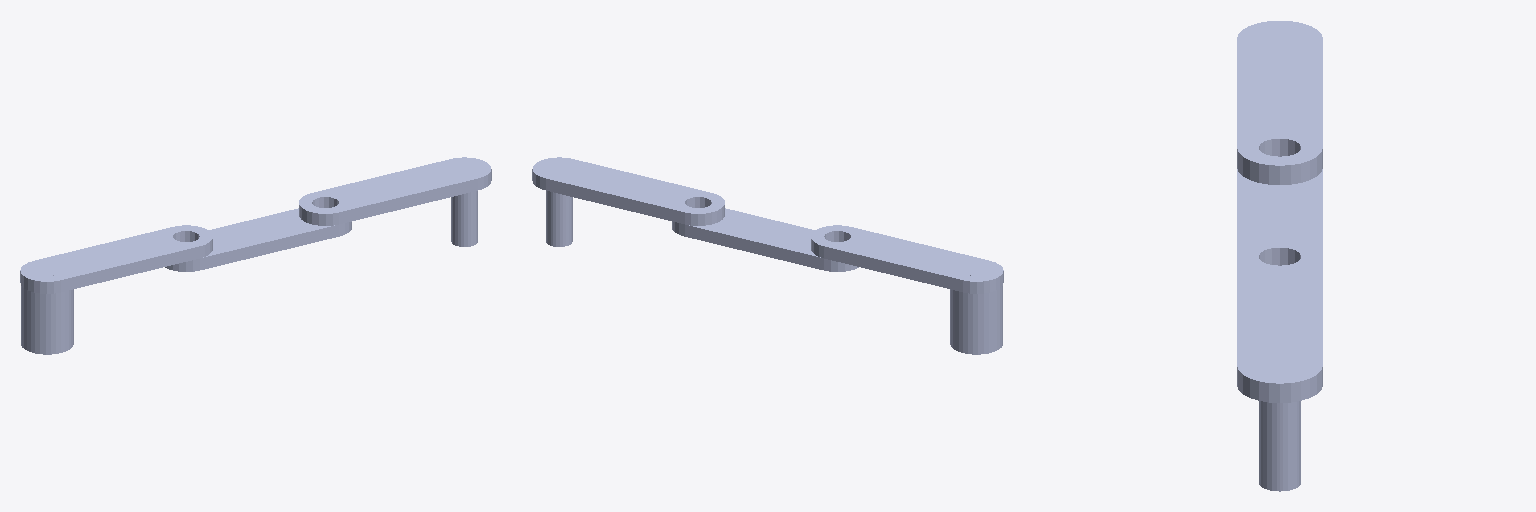
The robot description file, URDF, robot "scara_description":
<?xml version="1.0" encoding="utf-8"?>
<!-- This URDF was automatically created by SolidWorks to URDF Exporter! Originally created by [author] ([email redacted])
     Commit Version: 1.6.0-1-g15f4949  Build Version: 1.6.7594.29634
     For more information, please see http://wiki.ros.org/sw_urdf_exporter -->
<robot
  name="scara_description">
  <link
    name="base_link">
    <!-- <inertial>
      <origin
        xyz="-1.19902195345762E-18 -1.15027863359712E-36 0.0264285714285714"
        rpy="0 0 0" />
      <mass
        value="0.0659734457253857" />
      <inertia
        ixx="2.21706681553337E-05"
        ixy="-1.53596998285445E-39"
        ixz="3.37959773971053E-22"
        iyy="2.21706681553337E-05"
        iyz="-7.31884059447372E-38"
        izz="1.27234502470387E-05" />
    </inertial> -->
    <visual>
      <origin
        xyz="0 0 0"
        rpy="0 0 0" />
      <geometry>
        <mesh
          filename="package://scara_description/meshes/base_link.STL" />
      </geometry>
      <material
        name="">
        <color
          rgba="0.792156862745098 0.819607843137255 0.933333333333333 1" />
      </material>
    </visual>
    <collision>
      <origin
        xyz="0 0 0"
        rpy="0 0 0" />
      <geometry>
        <mesh
          filename="package://scara_description/meshes/base_link.STL" />
      </geometry>
    </collision>
  </link>
  <link
    name="link1">
    <inertial>
      <origin
        xyz="0.06 4.60932162961415E-18 0.00500000000000001"
        rpy="0 0 0" />
      <mass
        value="0.0542831853071797" />
      <inertia
        ixx="7.95191730631629E-06"
        ixy="-9.16610760965386E-21"
        ixz="-1.05751741696821E-20"
        iyy="9.4571384412163E-05"
        iyz="2.88743437528517E-22"
        izz="0.00010161858196336" />
    </inertial>
    <visual>
      <origin
        xyz="0 0 0"
        rpy="0 0 0" />
      <geometry>
        <mesh
          filename="package://scara_description/meshes/link1.STL" />
      </geometry>
      <material
        name="">
        <color
          rgba="0.792156862745098 0.819607843137255 0.933333333333333 1" />
      </material>
    </visual>
    <collision>
      <origin
        xyz="0 0 0"
        rpy="0 0 0" />
      <geometry>
        <mesh
          filename="package://scara_description/meshes/link1.STL" />
      </geometry>
    </collision>
  </link>
  <joint
    name="joint1"
    type="revolute">
    <origin
      xyz="0 0 0.05"
      rpy="0 0 0" />
    <parent
      link="base_link" />
    <child
      link="link1" />
    <axis
      xyz="0 0 1" />
    <limit
      lower="-2.967"
      upper="2.967"
      effort="0"
      velocity="0" />
  </joint>
  <link
    name="link2">
    <inertial>
      <origin
        xyz="0.06 2.41102148983359E-18 -0.00499999999999995"
        rpy="0 0 0" />
      <mass
        value="0.0542831853071797" />
      <inertia
        ixx="7.9519173063163E-06"
        ixy="-6.8807077310514E-21"
        ixz="-8.77170450513449E-20"
        iyy="9.45713844121631E-05"
        iyz="-6.97446710071629E-21"
        izz="0.00010161858196336" />
    </inertial>
    <visual>
      <origin
        xyz="0 0 0"
        rpy="0 0 0" />
      <geometry>
        <mesh
          filename="package://scara_description/meshes/link2.STL" />
      </geometry>
      <material
        name="">
        <color
          rgba="0.792156862745098 0.819607843137255 0.933333333333333 1" />
      </material>
    </visual>
    <collision>
      <origin
        xyz="0 0 0"
        rpy="0 0 0" />
      <geometry>
        <mesh
          filename="package://scara_description/meshes/link2.STL" />
      </geometry>
    </collision>
  </link>
  <joint
    name="joint2"
    type="revolute">
    <origin
      xyz="0.12 0 0"
      rpy="0 0 0" />
    <parent
      link="link1" />
    <child
      link="link2" />
    <axis
      xyz="0 0 1" />
    <limit
      lower="-2.618"
      upper="2.618"
      effort="0"
      velocity="0" />
  </joint>
  <link
    name="link3">
    <inertial>
      <origin
        xyz="0.06 2.12814510469679E-18 0.00500000000000001"
        rpy="0 0 0" />
      <mass
        value="0.0542831853071797" />
      <inertia
        ixx="7.95191730631628E-06"
        ixy="-7.210724416327E-21"
        ixz="-2.62681785066357E-21"
        iyy="9.45713844121629E-05"
        iyz="-3.61399576867773E-23"
        izz="0.00010161858196336" />
    </inertial>
    <visual>
      <origin
        xyz="0 0 0"
        rpy="0 0 0" />
      <geometry>
        <mesh
          filename="package://scara_description/meshes/link3.STL" />
      </geometry>
      <material
        name="">
        <color
          rgba="0.792156862745098 0.819607843137255 0.933333333333333 1" />
      </material>
    </visual>
    <collision>
      <origin
        xyz="0 0 0"
        rpy="0 0 0" />
      <geometry>
        <mesh
          filename="package://scara_description/meshes/link3.STL" />
      </geometry>
    </collision>
  </link>
  <joint
    name="joint3"
    type="revolute">
    <origin
      xyz="0.12 0 0"
      rpy="0 0 0" />
    <parent
      link="link2" />
    <child
      link="link3" />
    <axis
      xyz="0 0 1" />
    <limit
      lower="-2.618"
      upper="2.618"
      effort="0"
      velocity="0" />
  </joint>
  <link
    name="end_effector">
    <inertial>
      <origin
        xyz="-5.55111512312578E-17 -2.77555756156289E-17 0.0300000000000001"
        rpy="0 0 0" />
      <mass
        value="0.0188495559215388" />
      <inertia
        ixx="6.12610567450009E-06"
        ixy="0"
        ixz="-1.13270339533024E-38"
        iyy="6.12610567450009E-06"
        iyz="-1.09278496803874E-38"
        izz="9.42477796076937E-07" />
    </inertial>
    <visual>
      <origin
        xyz="0 0 0"
        rpy="0 0 0" />
      <geometry>
        <mesh
          filename="package://scara_description/meshes/end_effector.STL" />
      </geometry>
      <material
        name="">
        <color
          rgba="0.792156862745098 0.819607843137255 0.933333333333333 1" />
      </material>
    </visual>
    <collision>
      <origin
        xyz="0 0 0"
        rpy="0 0 0" />
      <geometry>
        <mesh
          filename="package://scara_description/meshes/end_effector.STL" />
      </geometry>
    </collision>
  </link>
  <joint
    name="joint4"
    type="prismatic">
    <origin
      xyz="0.12 0 -0.05"
      rpy="0 0 0" />
    <parent
      link="link3" />
    <child
      link="end_effector" />
    <axis
      xyz="0 0 1" />
    <limit
      lower="0"
      upper="0.05"
      effort="0"
      velocity="0" />
  </joint>
</robot>

--- Facts derived from the render (not from the file) ---
The picture shows the robot from 3 angles, left to right: view 1: azimuth 30°, elevation 25°; view 2: azimuth 150°, elevation 25°; view 3: azimuth 270°, elevation 25°; orthographic projection.
Robot: scara_description — 5 links, 4 joints (3 revolute, 1 prismatic); root link base_link; default pose: all joints at 0.
Links seen in each view (by area): view 1: link1, link3, link2, base_link, end_effector; view 2: link1, link3, link2, base_link, end_effector; view 3: link3, link1, link2, end_effector, base_link.
Boxes of the visible links, <box> form: link1: <box>20,225,212,293</box>; link3: <box>299,157,491,225</box>; link2: <box>165,208,351,271</box>; base_link: <box>21,265,73,354</box>; end_effector: <box>451,163,477,246</box>; link1: <box>811,225,1003,293</box>; link3: <box>532,157,724,225</box>; link2: <box>672,208,858,271</box>; base_link: <box>950,265,1002,354</box>; end_effector: <box>546,163,572,246</box>; link3: <box>1237,238,1322,402</box>; link1: <box>1237,21,1322,184</box>; link2: <box>1237,169,1322,254</box>; end_effector: <box>1259,357,1300,491</box>; base_link: <box>1259,30,1300,47</box>.
Size in the robot's own frame: 0.4 by 0.04 by 0.06 metres.
Meshes: 5 distinct files referenced, 5 mesh visuals loaded (5 binary STL).